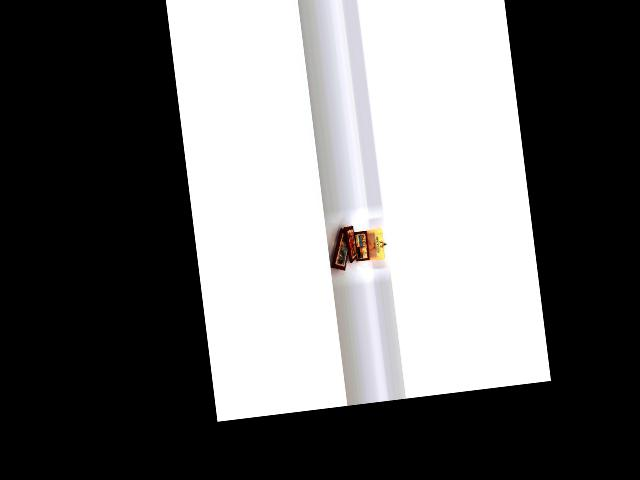chocolate: (323, 225, 353, 281)
